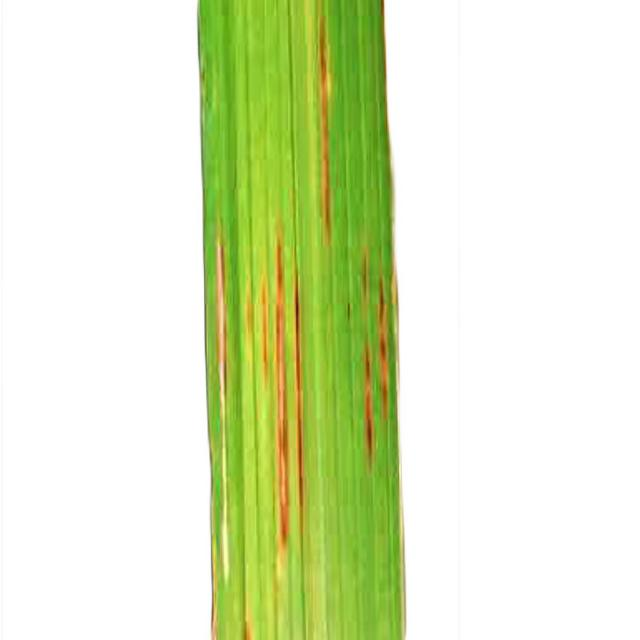Narrow brown: (158, 0, 530, 640)
